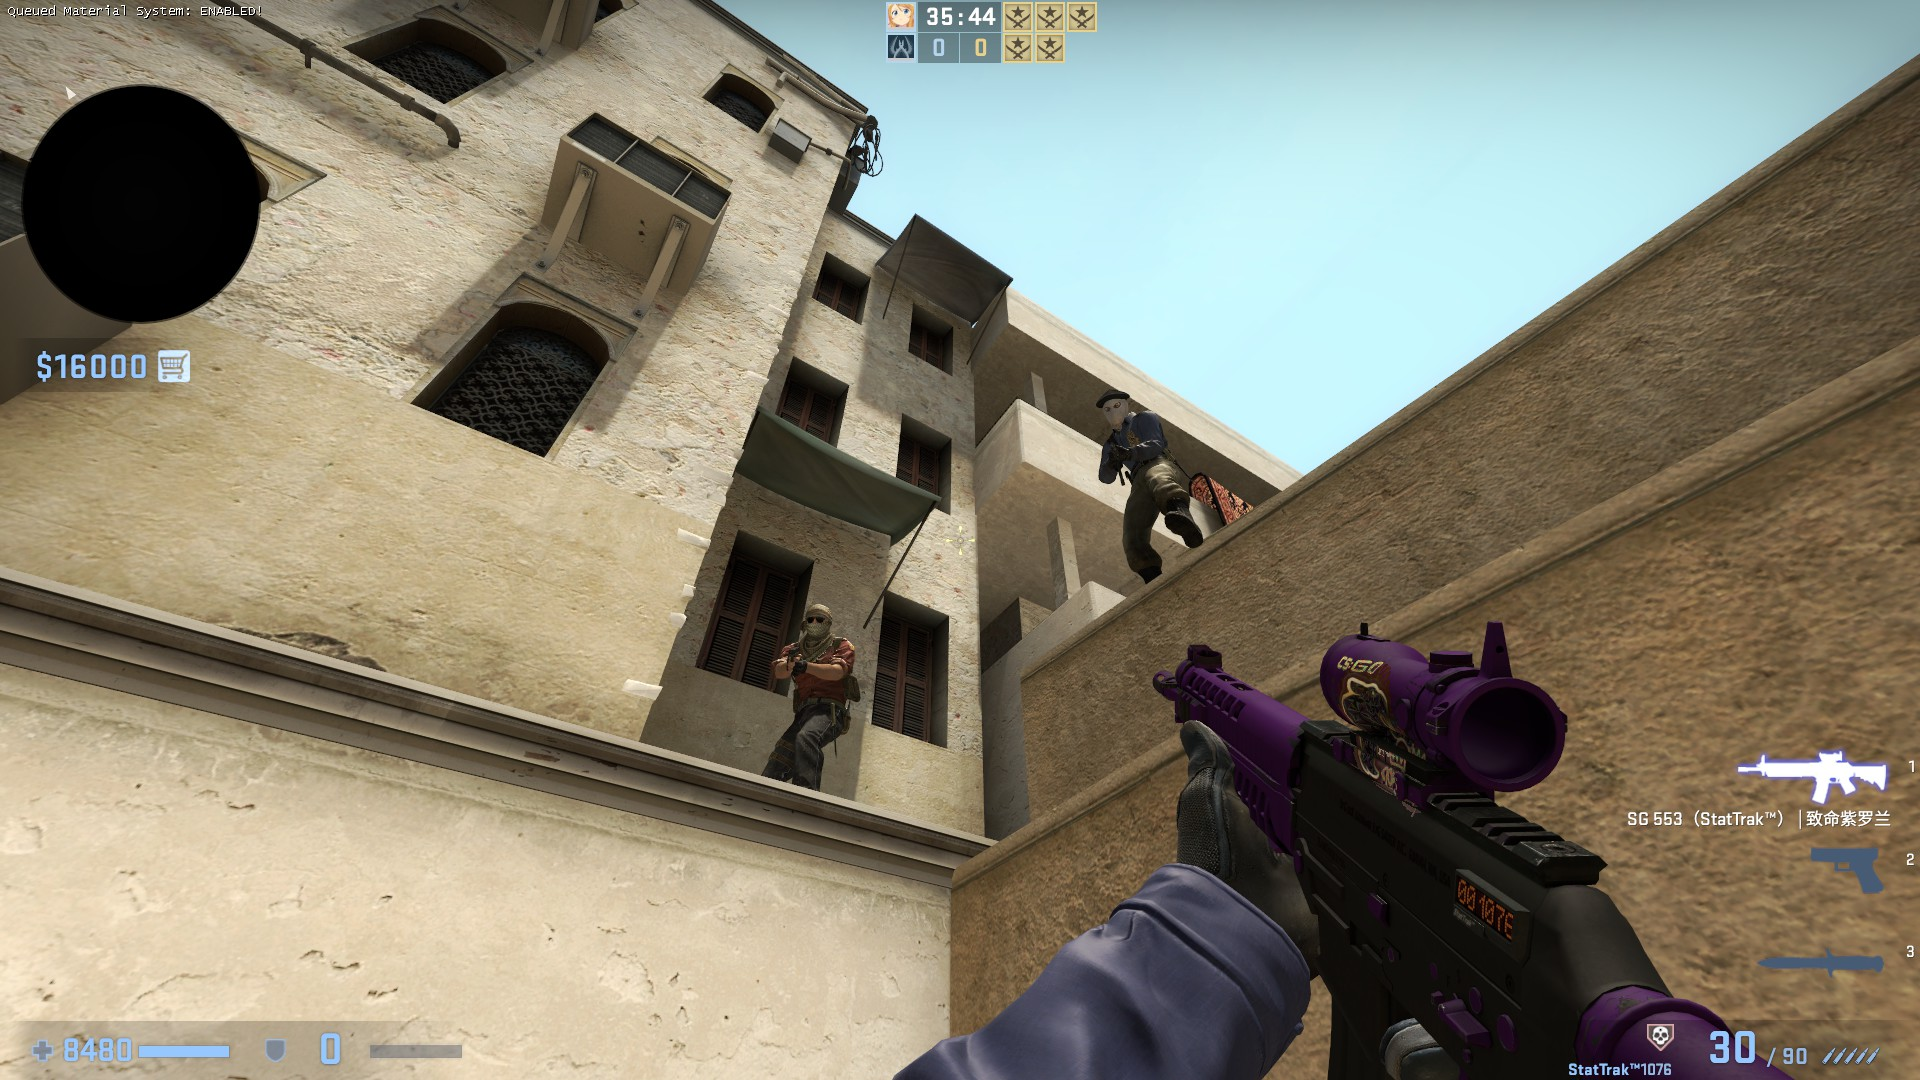head: (1091, 385, 1131, 424), (797, 602, 833, 636)
